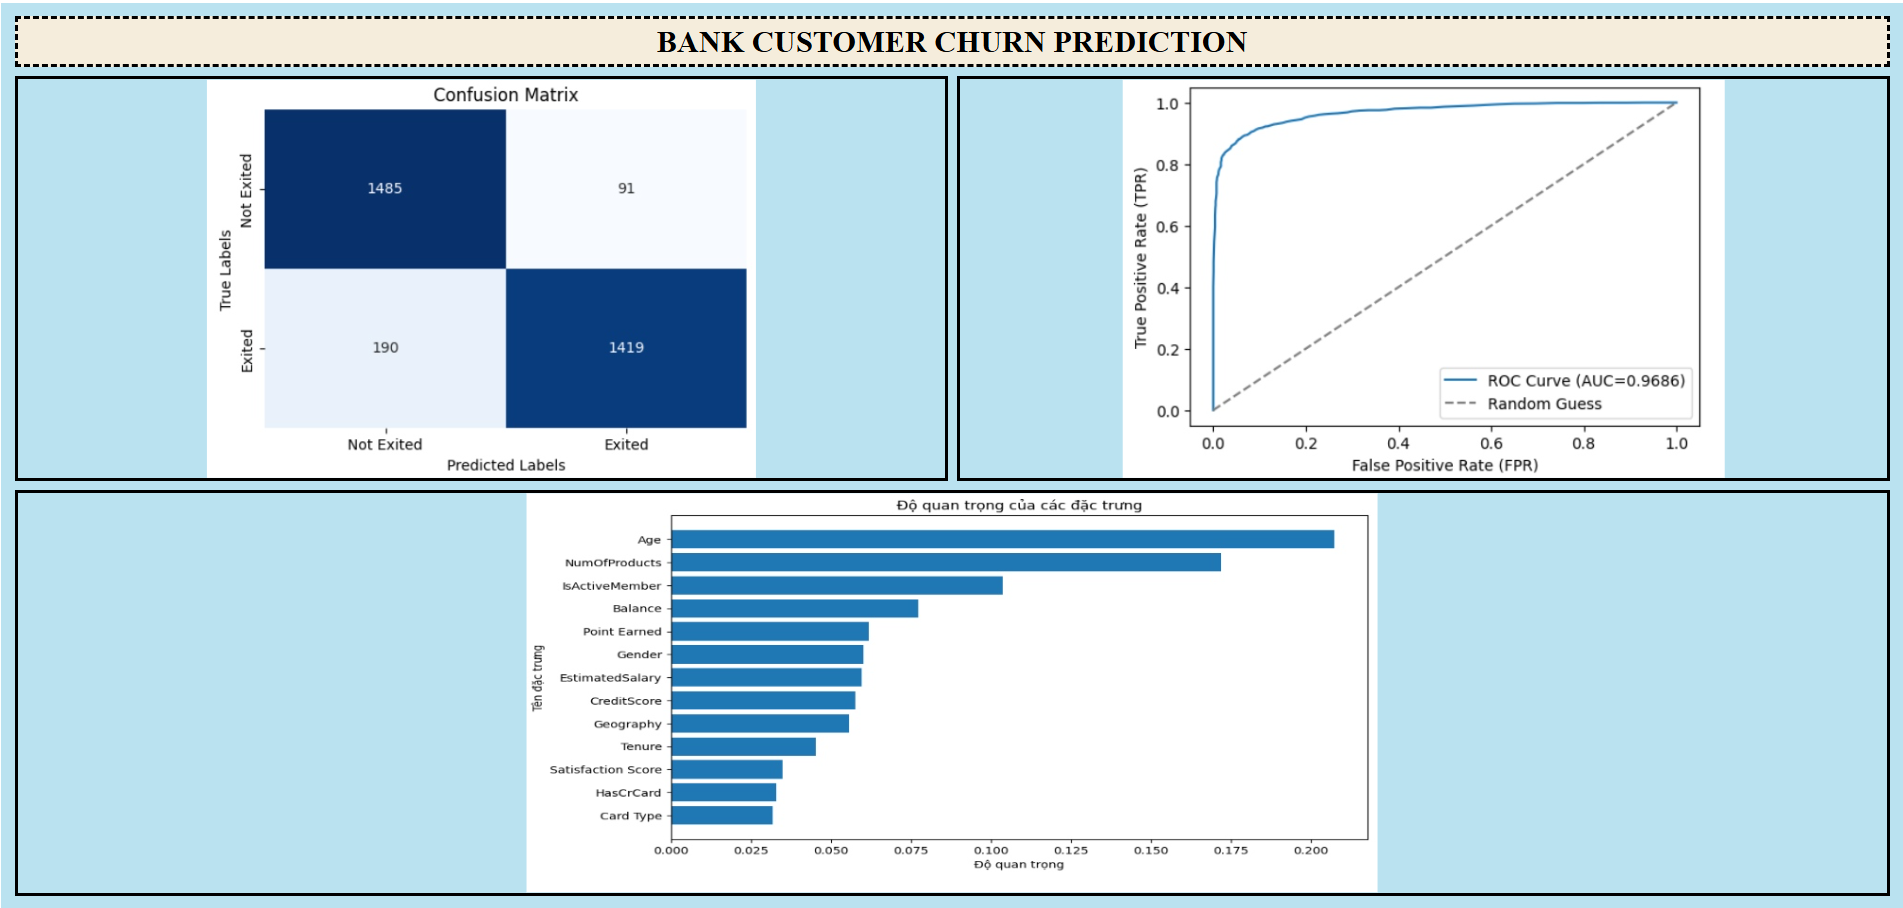

The page's visual inventory and layout, read from the dashboard file:
{"tool":"tableau","page":{"name":"PREDECTION","canvas":[1000,1000],"units":"permille","ordinal":2},"visuals":[{"type":"text","box":[4,10.2,992,65.7]},{"type":"image","param":"Image/Screenshot 2024-04-12 182146.png","box":[4,75.9,496,456.9]},{"type":"image","param":"Image/Screenshot 2024-04-12 182201.png","box":[500,75.9,496,456.9]},{"type":"image","param":"Image/Screenshot 2024-04-12 182426.png","box":[4,532.8,992,456.9]}]}

Visuals, with their boxes on the dashboard's canvas, which has no fixed pixel size, in thousandths of its width and height (x1, y1, x2, y2). These are canvas units, not pixel positions in the 1903x908 screenshot, which may show the page scaled, cropped or inside an application window:
text: (4,10,996,76)
image: (4,76,500,533)
image: (500,76,996,533)
image: (4,533,996,990)
